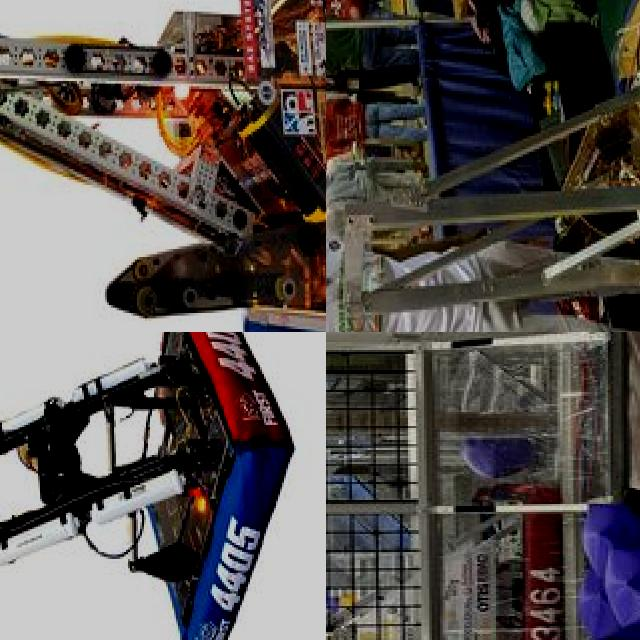FRC-Robots: (0, 0, 326, 332), (328, 0, 640, 332), (0, 332, 304, 640), (326, 437, 561, 640)
